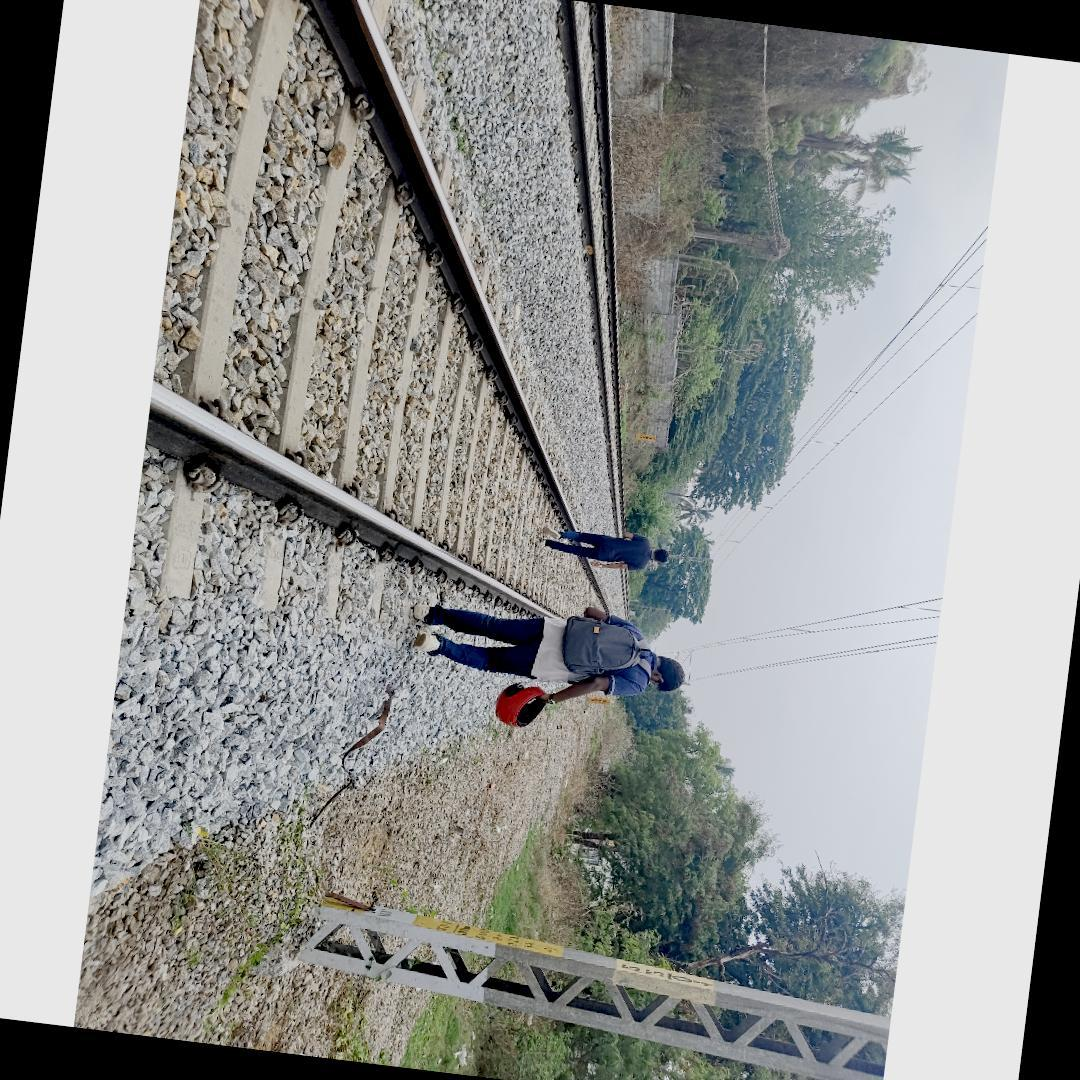standing: (402, 584, 692, 722), (538, 520, 671, 578)
track: (147, 0, 641, 700)
